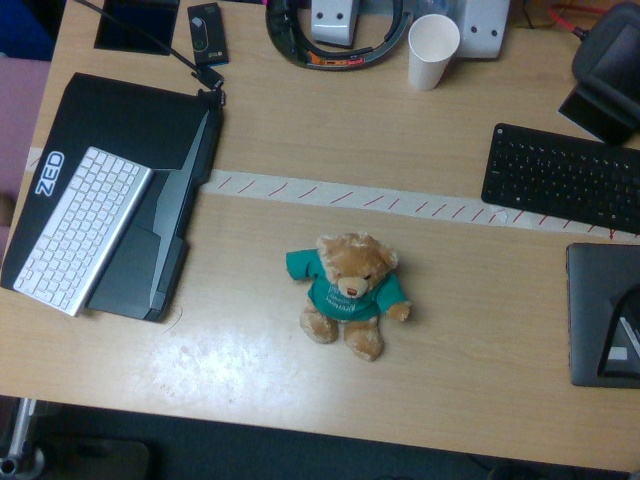teddy: (286, 231, 410, 362)
